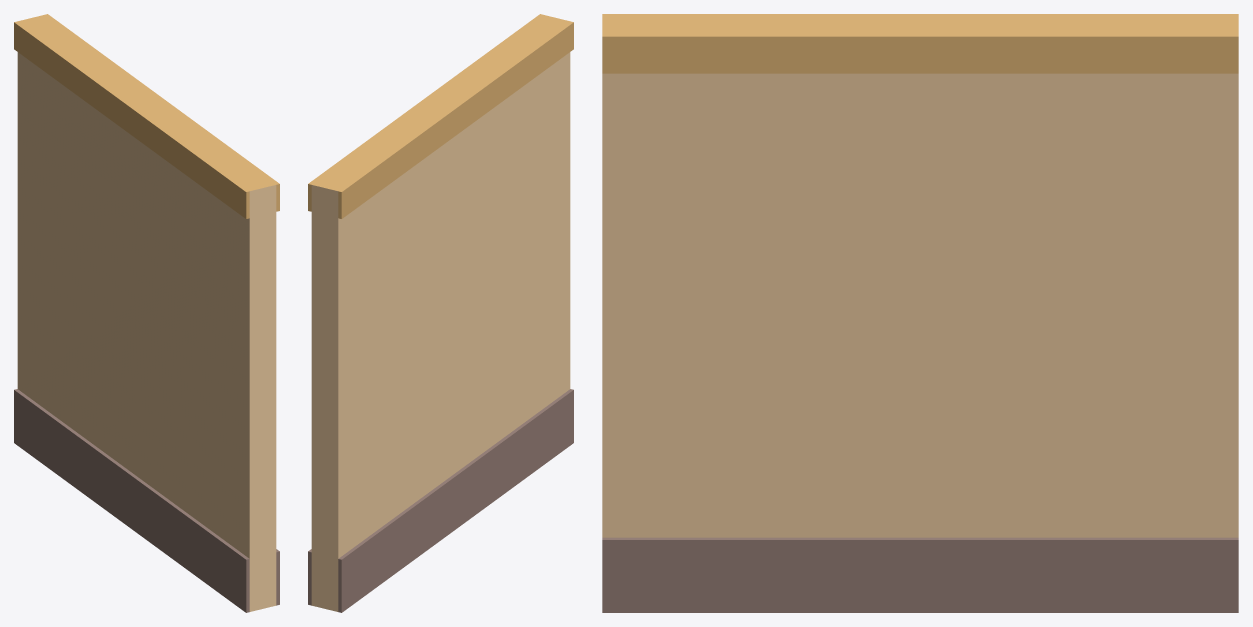
File: Wall01.fbx
3 views of the same model, side by side, from view 1: azimuth 30°, elevation 25°; view 2: azimuth 150°, elevation 25°; view 3: azimuth 270°, elevation 25° (orthographic). The views are drawn at different scales.
Visible parts, largest first — view 1: Wall01; view 2: Wall01; view 3: Wall01.
Boxes of the visible parts, x1,y1,x2,y2 form: Wall01: (14,14,279,612); Wall01: (308,14,573,612); Wall01: (602,14,1238,612).
Size of the model in its own units: 0.2519 by 3 by 3.
